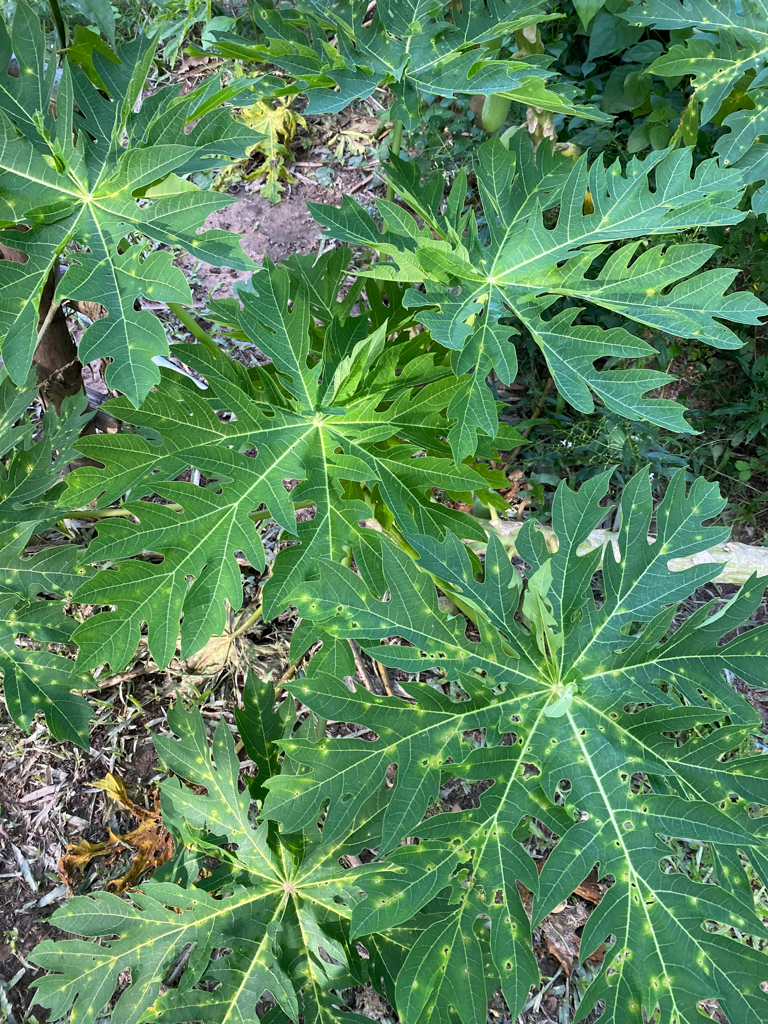Alternaria brassicicola: (493, 653, 640, 787), (452, 818, 524, 980), (606, 806, 668, 950), (183, 748, 252, 845), (2, 642, 69, 730), (60, 932, 158, 991), (393, 703, 466, 775), (608, 949, 683, 1018), (297, 586, 376, 637), (279, 743, 332, 803), (298, 938, 334, 1020), (689, 48, 752, 92), (411, 634, 467, 677), (250, 686, 278, 770), (304, 863, 341, 909), (3, 610, 65, 637), (372, 876, 405, 911), (433, 940, 457, 985), (192, 997, 239, 1013), (187, 898, 213, 926), (74, 564, 89, 575)
